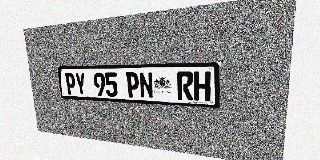5: (105, 72, 118, 97)
9: (93, 72, 106, 96)
H: (194, 71, 211, 101)
N: (139, 72, 153, 99)
P: (125, 72, 140, 98), (64, 73, 76, 95)
R: (177, 71, 193, 100)
Y: (74, 72, 87, 96)
